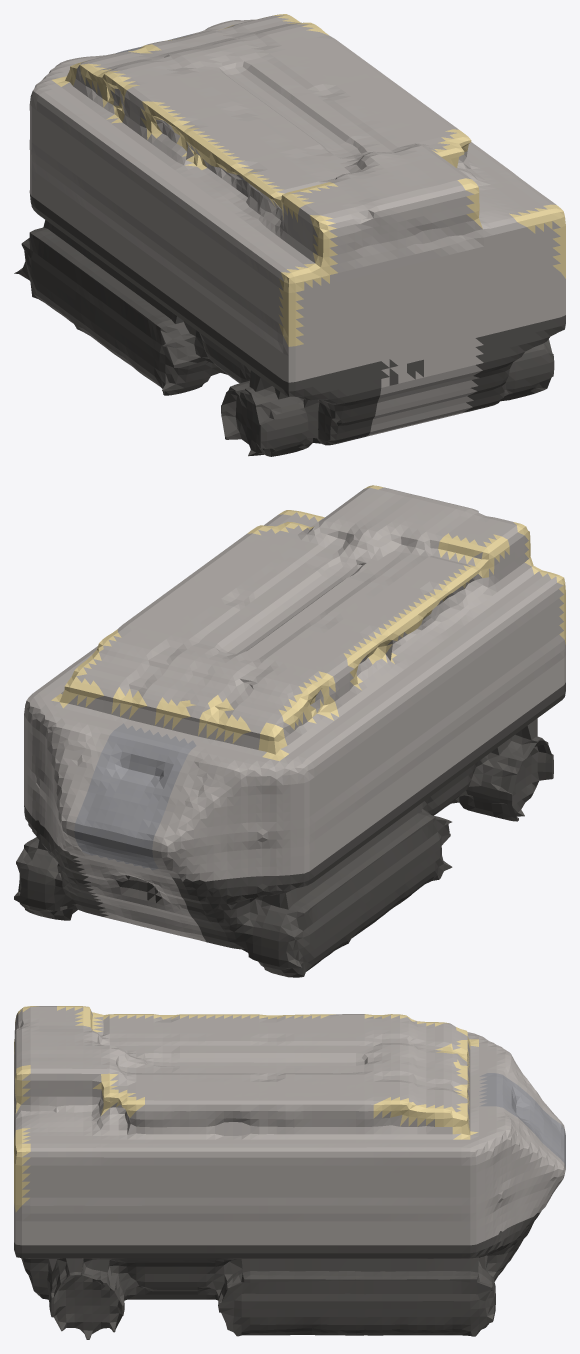
File: unit_ark_carriage.glb
3 views of the same model, one above another, from view 1: azimuth 30°, elevation 25°; view 2: azimuth 150°, elevation 25°; view 3: azimuth 270°, elevation 25° (orthographic). The views are drawn at different scales.
Parts seen in each view (by area): view 1: Mesh_0.053; view 2: Mesh_0.053; view 3: Mesh_0.053.
Boxes of the visible parts, x1,y1,x2,y2 form: Mesh_0.053: (14,14,565,456); Mesh_0.053: (14,485,565,977); Mesh_0.053: (14,1006,565,1339).
Bounding box in the file's own units: 2.4 × 2.07 × 4.4.
